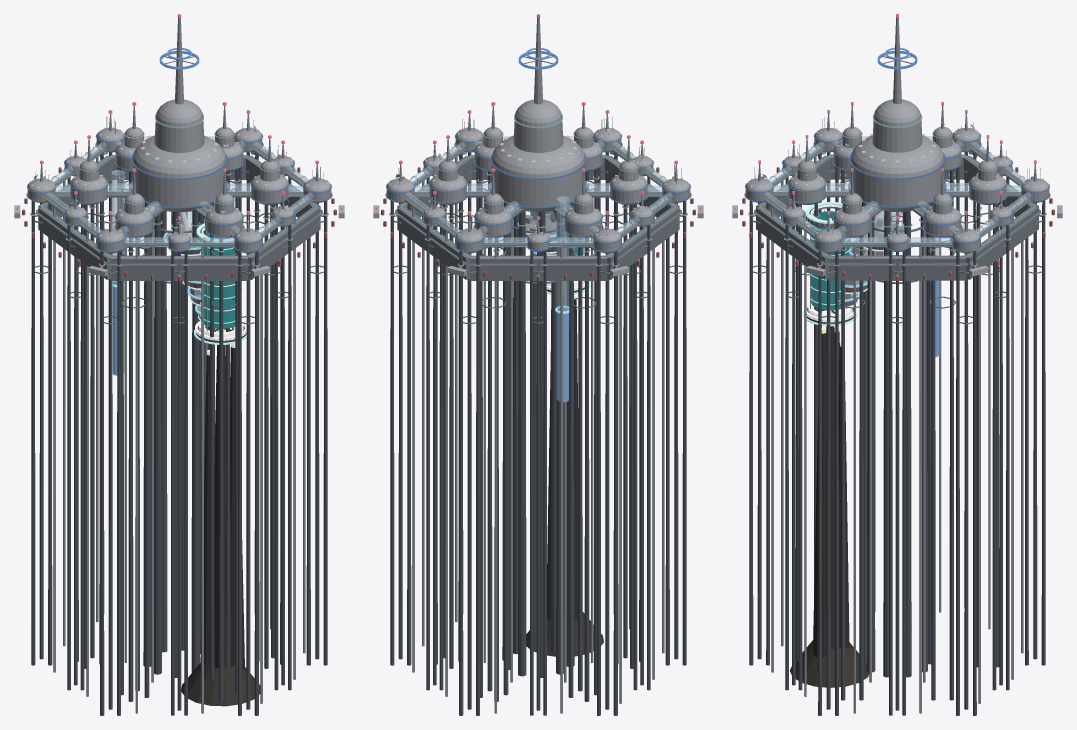
The model's file is tethys_landmark.glb.
The picture shows the model from 3 angles, left to right: view 1: azimuth 30°, elevation 25°; view 2: azimuth 150°, elevation 25°; view 3: azimuth 270°, elevation 25°; orthographic projection.
Visible parts, largest first — view 1: landmark_tethys; view 2: landmark_tethys; view 3: landmark_tethys.
Part boxes in pixels (x1,y1,x2,y2): landmark_tethys: (14, 14, 344, 715); landmark_tethys: (373, 14, 703, 715); landmark_tethys: (732, 14, 1062, 715).
Size of the model in its own units: 69.7 by 159 by 73.13.
